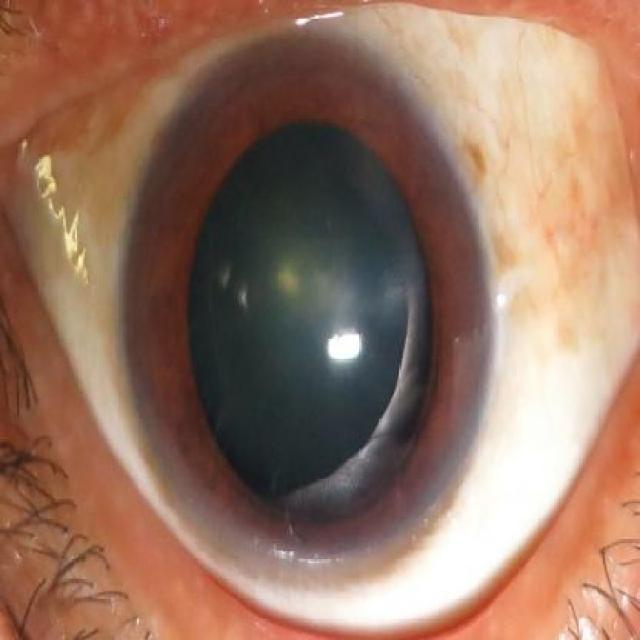Cataract: (126, 30, 490, 590)
